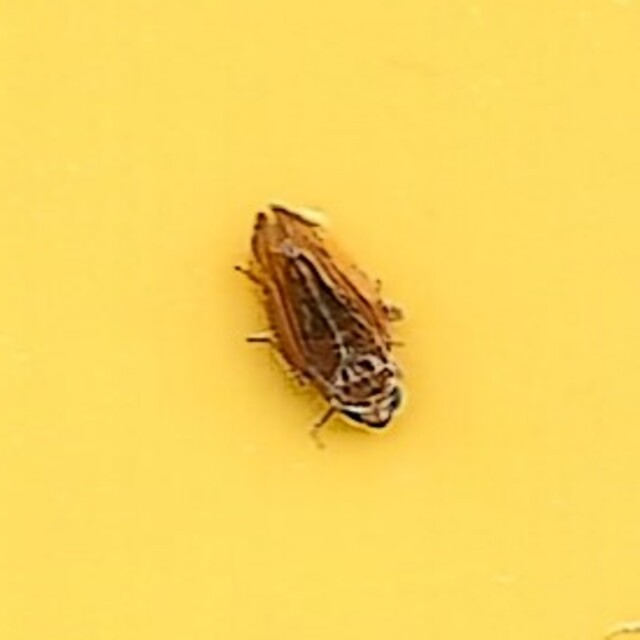Hemiptera: (233, 199, 407, 441)
